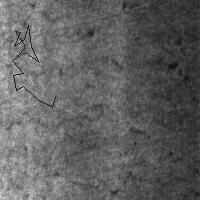crazing: (122, 41, 200, 199), (4, 83, 107, 198), (12, 25, 55, 107)
